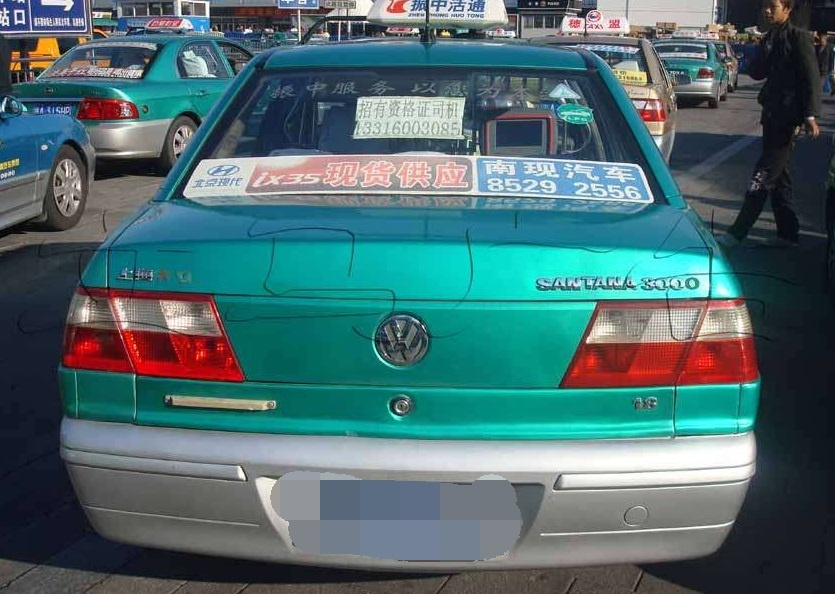taxi: (70, 1, 752, 581)
